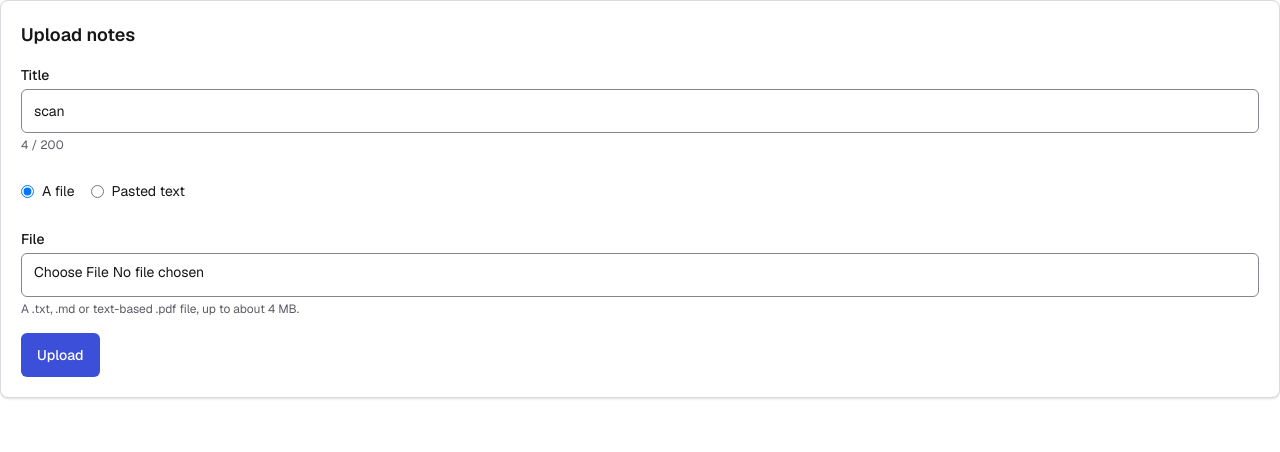
UploadForm › shows the server's message when it refuses the file
Earlier steps of the test are not shown.
Click the button "Upload" at (60, 355), box [21,333,100,377]
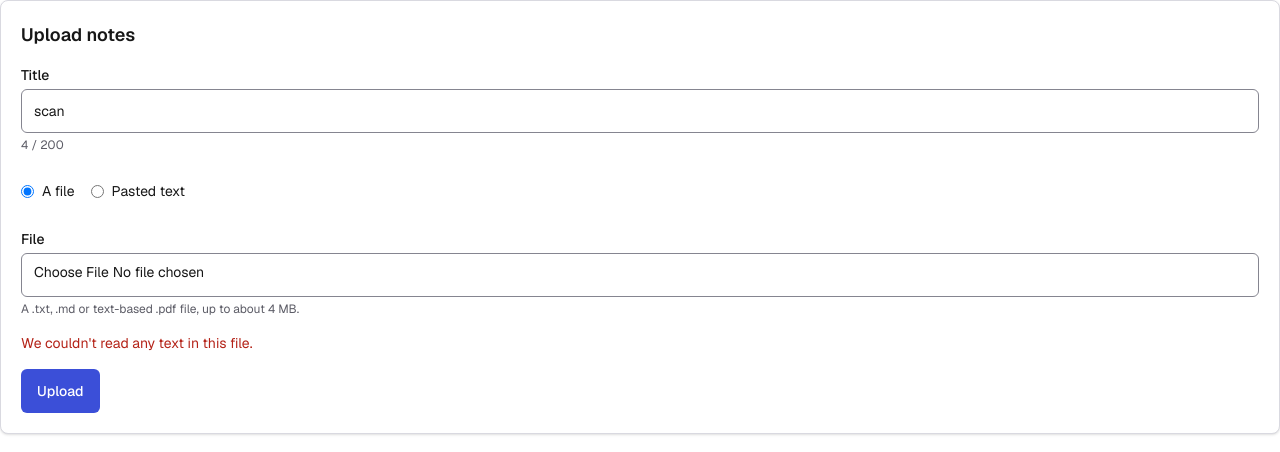
Check: the message reads "We couldn't read any text in this file.", box [21,334,252,352]
